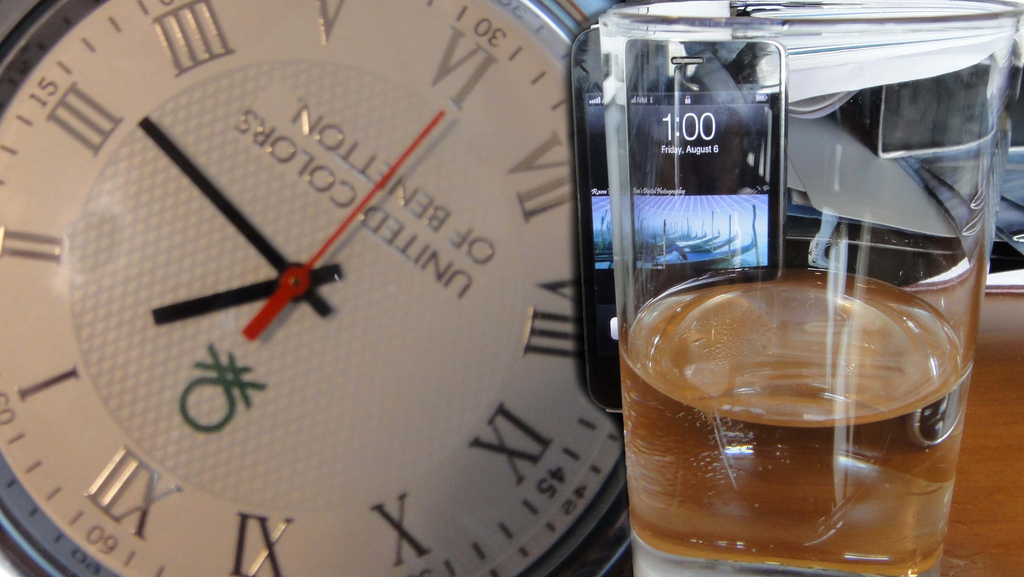glass of water: (623, 58, 993, 577)
